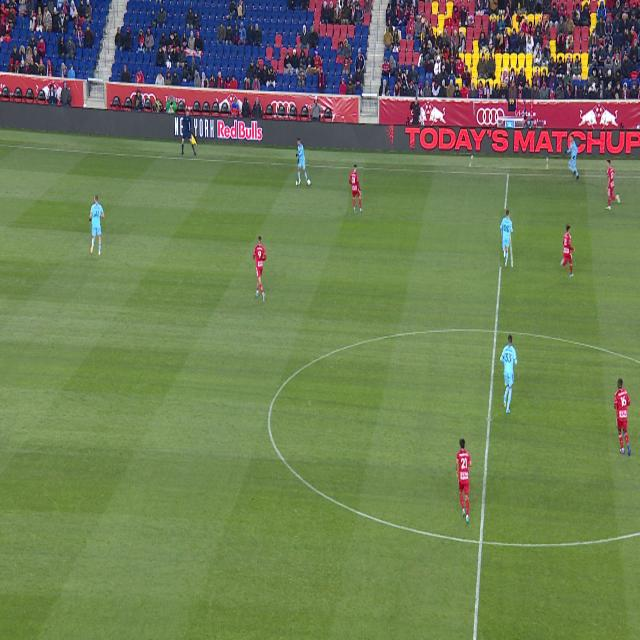football: (307, 179, 311, 187)
player: (500, 335, 518, 414), (456, 439, 472, 523), (614, 378, 631, 457), (89, 195, 105, 255), (253, 235, 266, 301), (500, 210, 513, 267), (561, 226, 575, 277), (606, 159, 620, 210), (349, 165, 363, 213), (565, 134, 579, 180), (296, 138, 309, 185)
